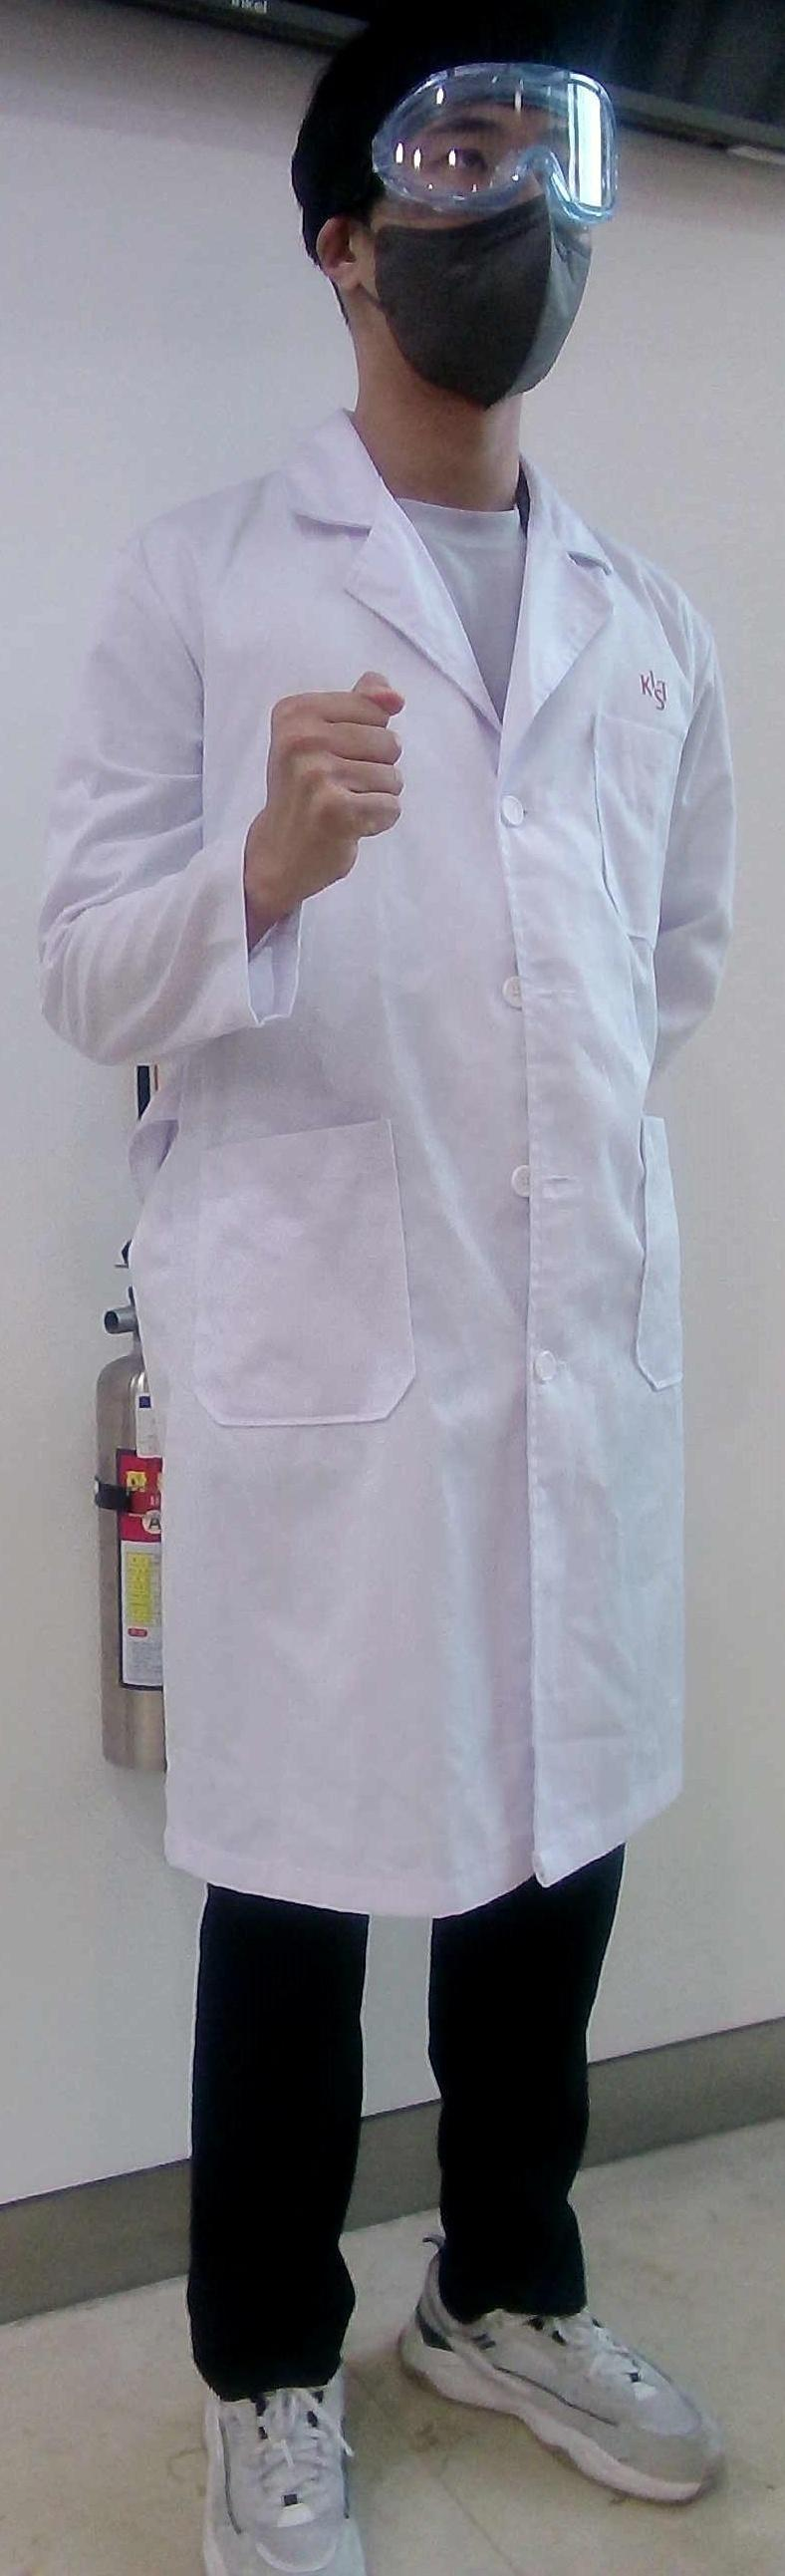lab_coat: (80, 475, 742, 1894)
